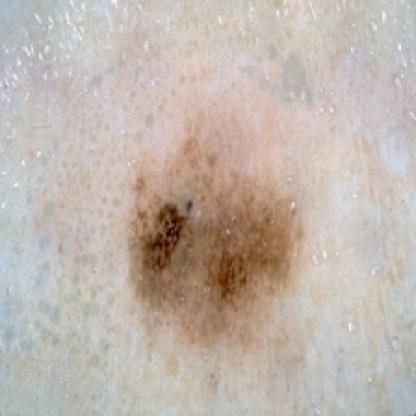Skin_Cancer-Malignant: (125, 150, 303, 342)
